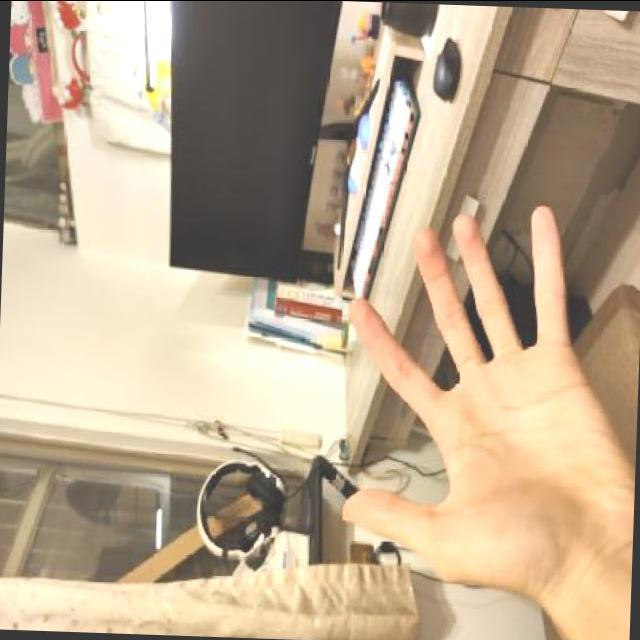bare_hand: (329, 202, 631, 596)
